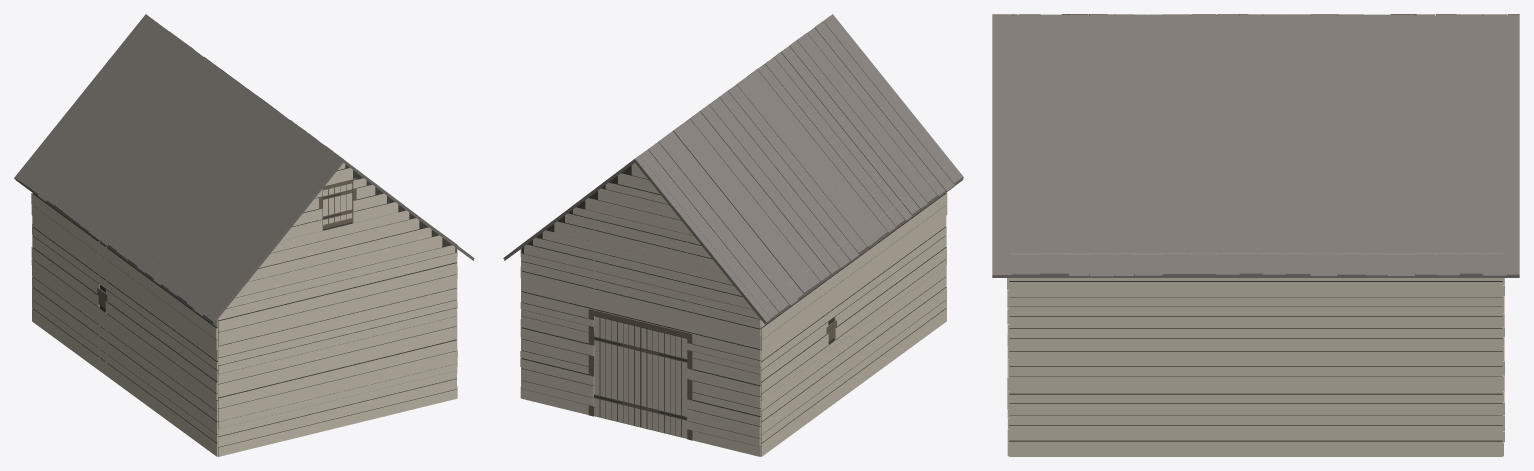
Rendered from recon_1835_north_a2_059__inferred_1835.glb.
3 renders of one model, left to right at view 1: azimuth 30°, elevation 25°; view 2: azimuth 150°, elevation 25°; view 3: azimuth 270°, elevation 25°, orthographic. The views are drawn at different scales.
Visible parts, largest first — view 1: recon_1835_north_a2_059__inferred_1835; view 2: recon_1835_north_a2_059__inferred_1835; view 3: recon_1835_north_a2_059__inferred_1835.
Boxes of the visible parts, x1,y1,x2,y2 form: recon_1835_north_a2_059__inferred_1835: (14, 14, 474, 456); recon_1835_north_a2_059__inferred_1835: (503, 14, 963, 456); recon_1835_north_a2_059__inferred_1835: (992, 14, 1519, 456).
Size of the model in its own units: 8.21 by 8.13 by 10.66.
